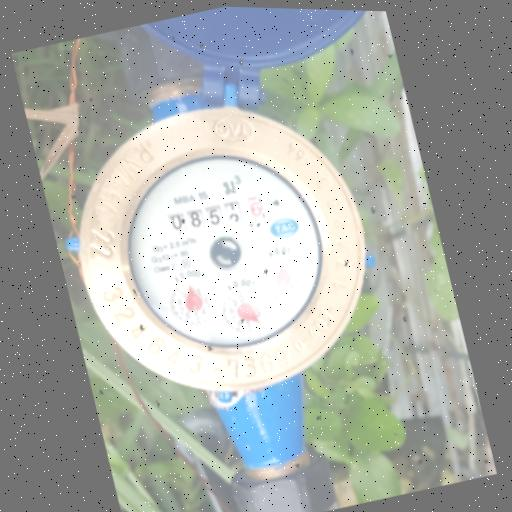0: (169, 213, 188, 237)
1: (225, 200, 244, 225)
5: (206, 204, 224, 229)
6: (247, 195, 265, 220)
8: (187, 208, 207, 233)
border_water_meter_number: (165, 190, 267, 242)
